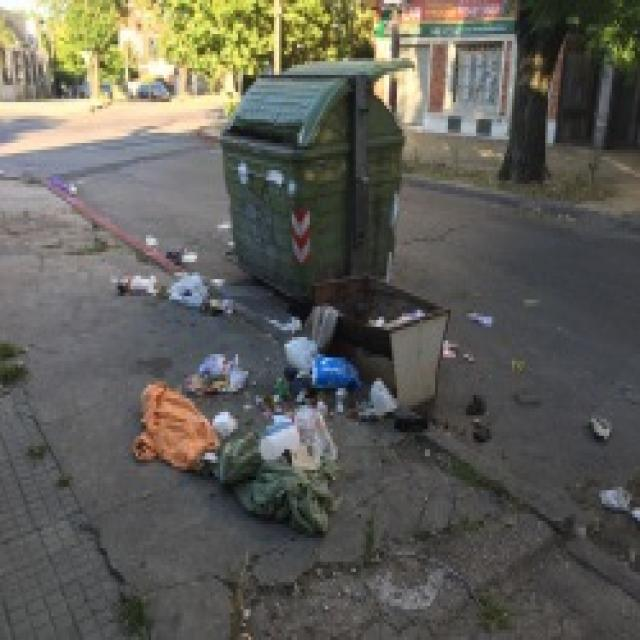garbage: (136, 350, 335, 534), (105, 235, 230, 316), (271, 310, 356, 395), (578, 398, 614, 443)
